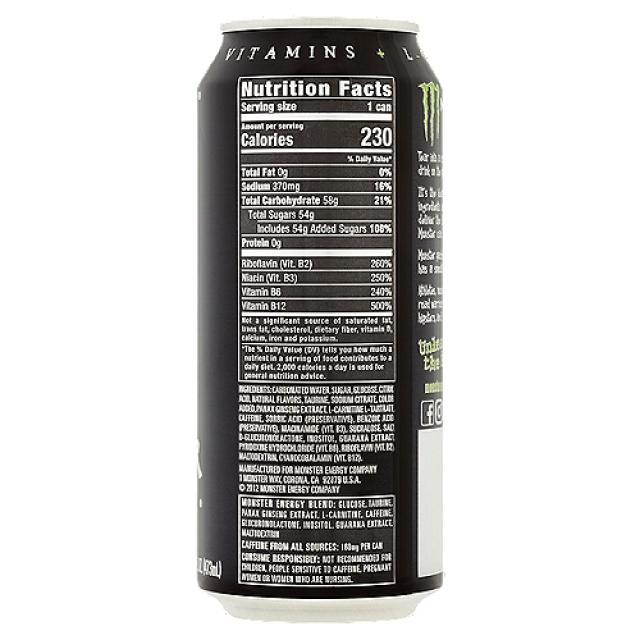Cans: (188, 8, 451, 629)
